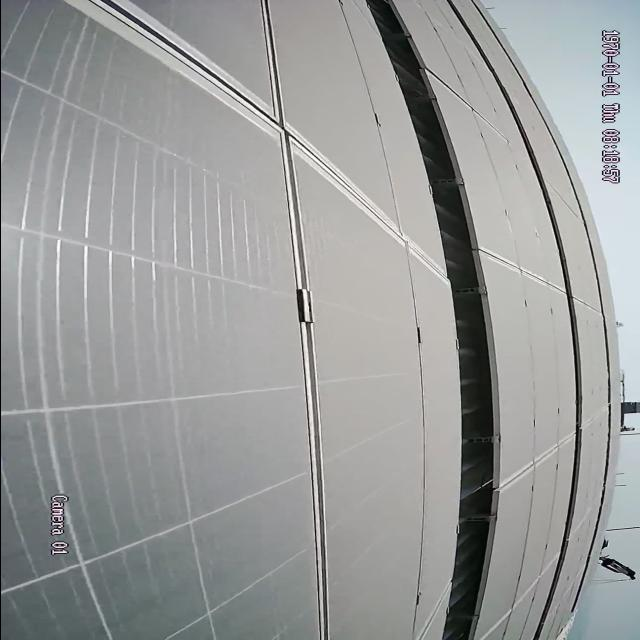interior panel: (76, 3, 427, 631), (441, 79, 504, 140), (505, 437, 566, 491), (490, 250, 558, 295)
outher panel: (362, 3, 498, 638)
